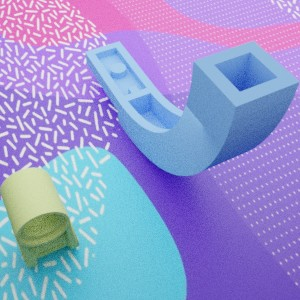lego: (84, 40, 300, 176), (0, 167, 79, 268)
